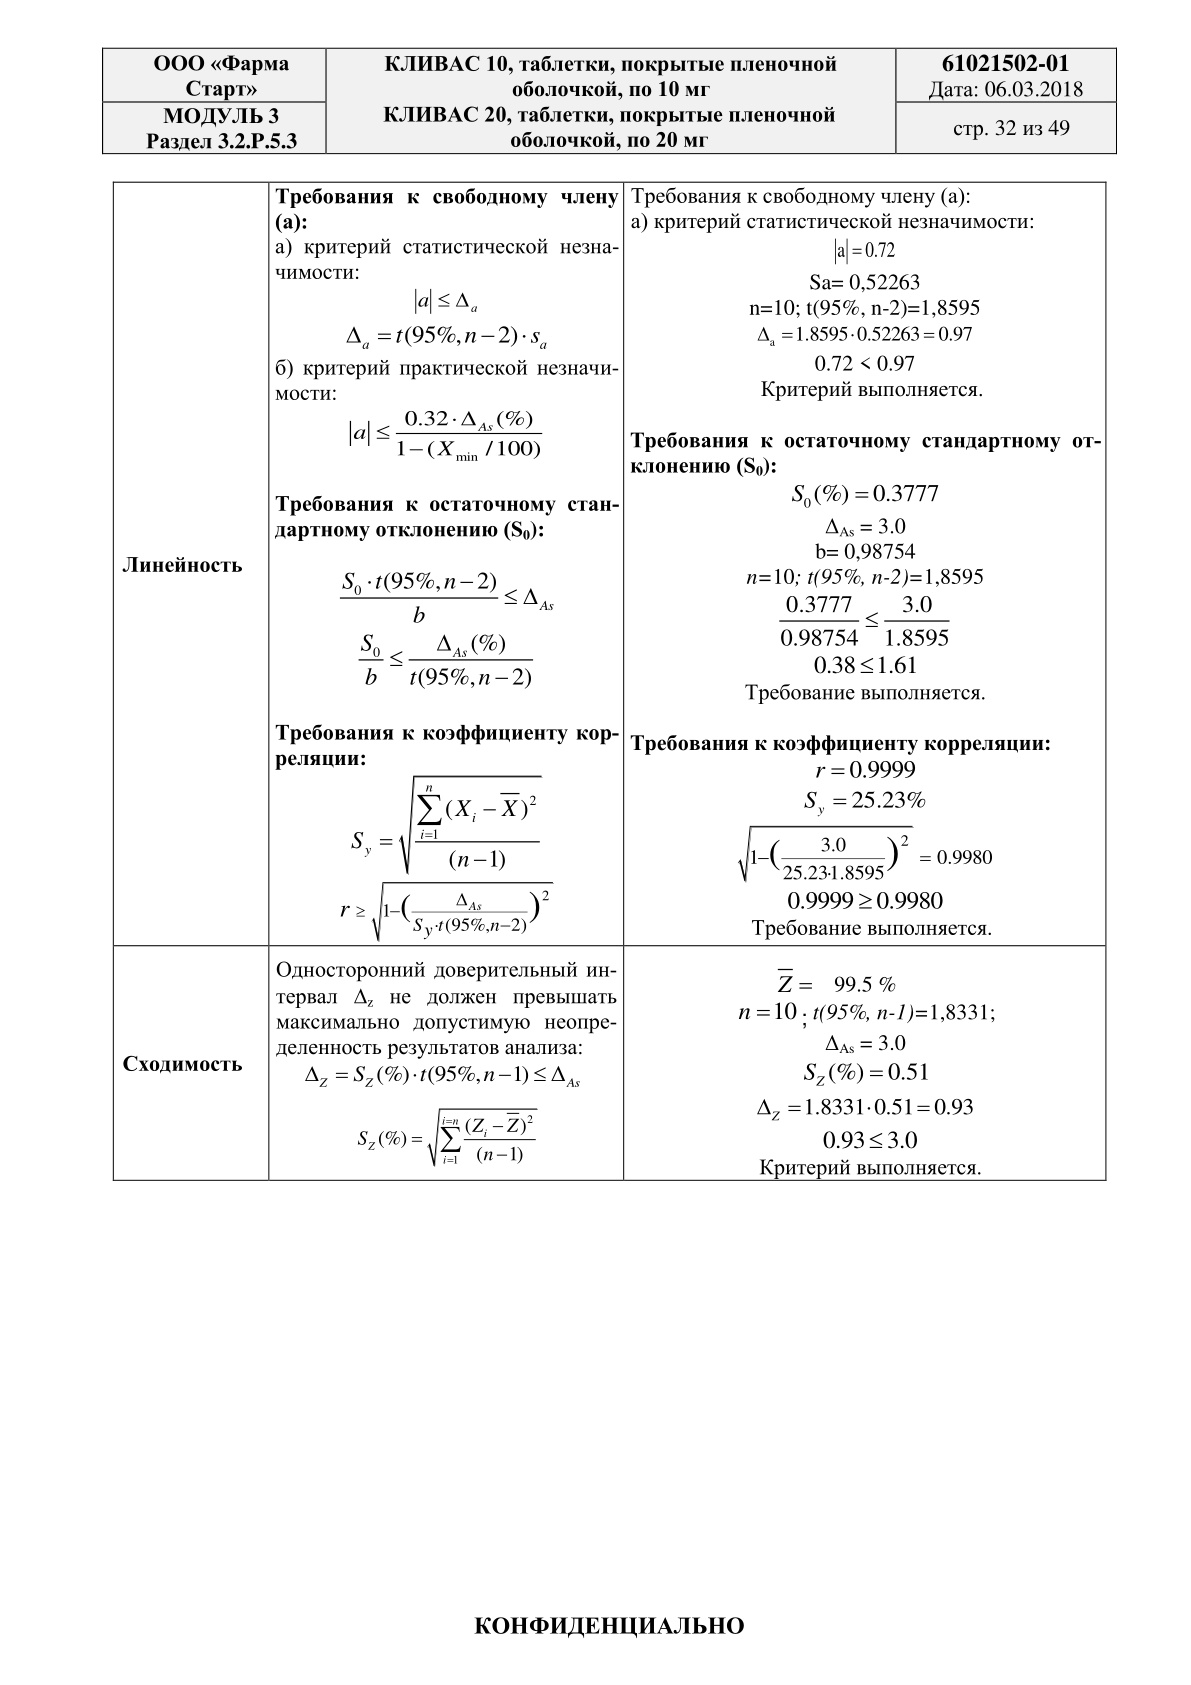full_lined: (111, 179, 1109, 1182)
merged_cells: (101, 46, 1118, 155)
